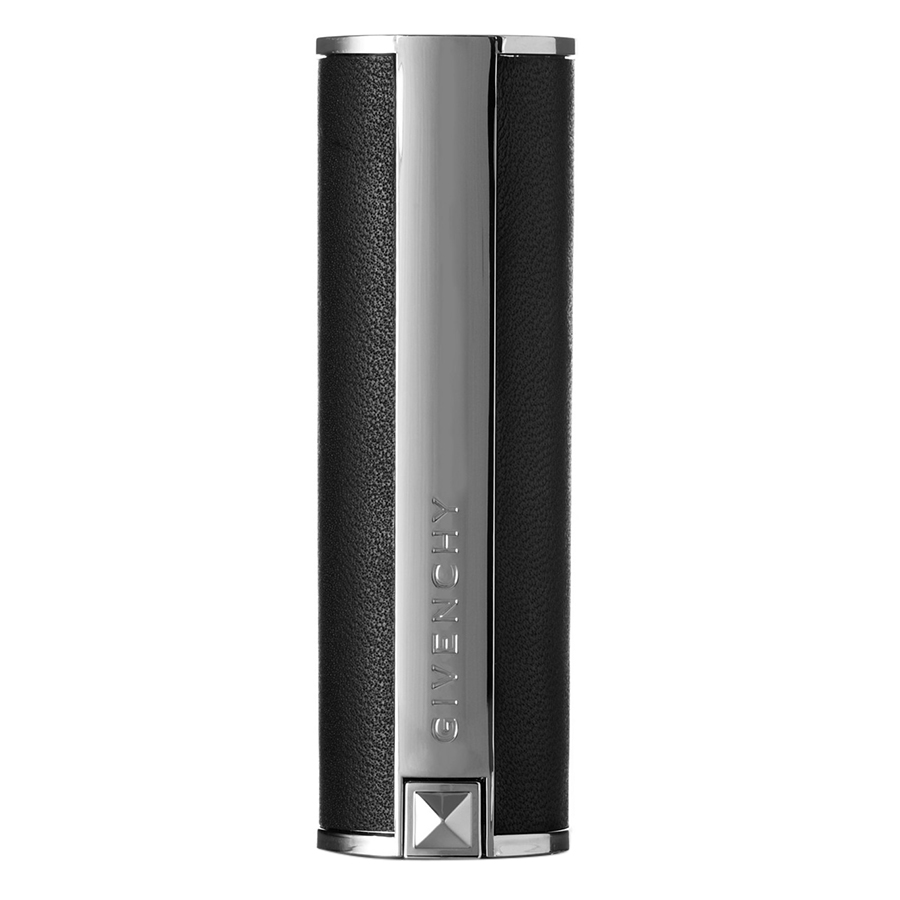GIVENCHY: (422, 491, 466, 755)
